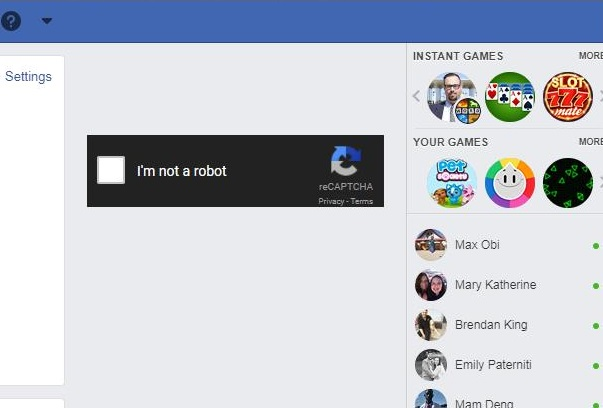captcha: (96, 155, 229, 185)
